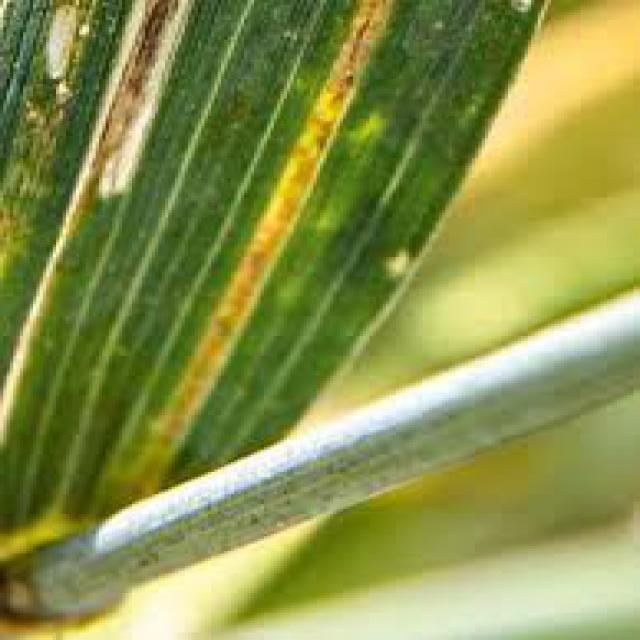Yellow Rust: (2, 0, 544, 561)
